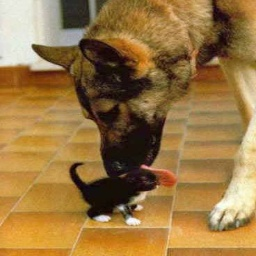cat: (68, 157, 160, 231)
